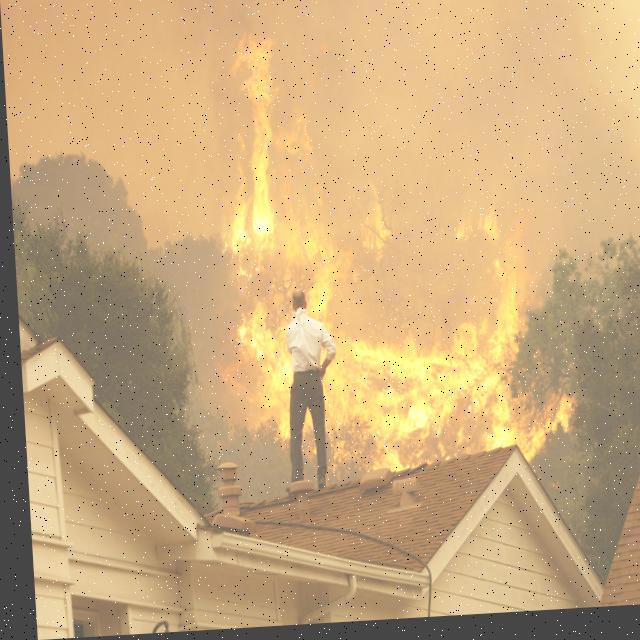Fire: (210, 26, 583, 491)
